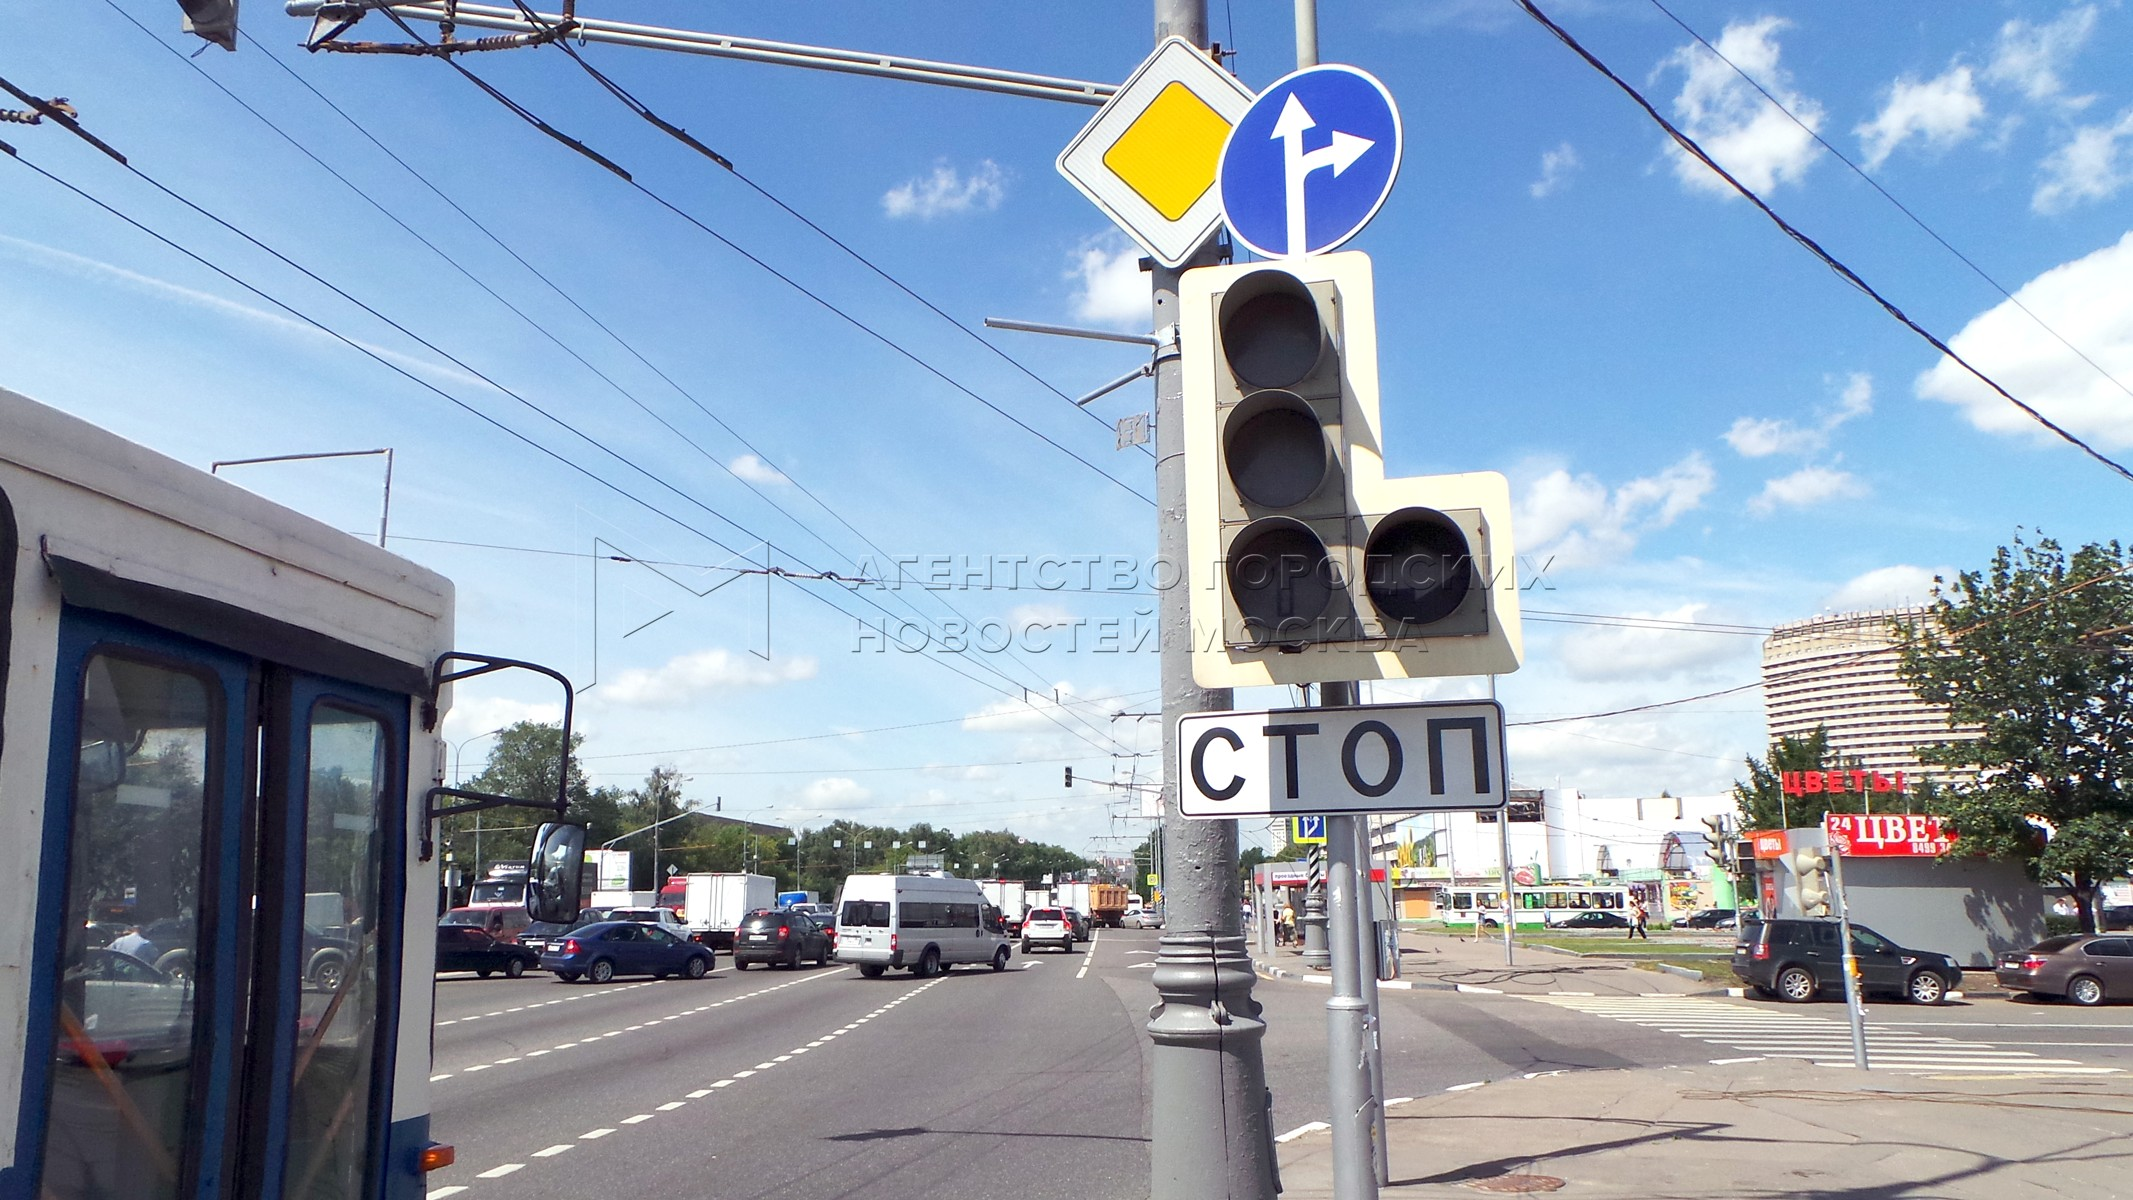ileri_veya_saga: (1213, 59, 1403, 256)
minibus: (828, 851, 1046, 993)
otobus: (0, 374, 472, 1196)
otomobil: (1729, 905, 1976, 1024), (535, 914, 724, 990), (1992, 922, 2130, 1001), (725, 894, 815, 973), (445, 914, 535, 980)
